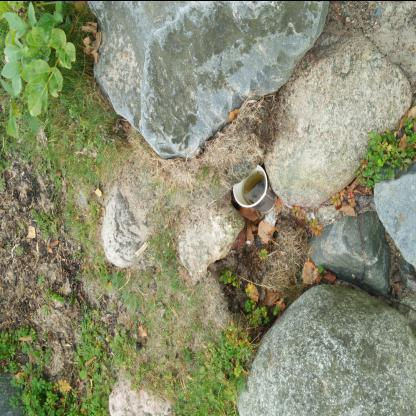karton: (163, 139, 213, 185)
